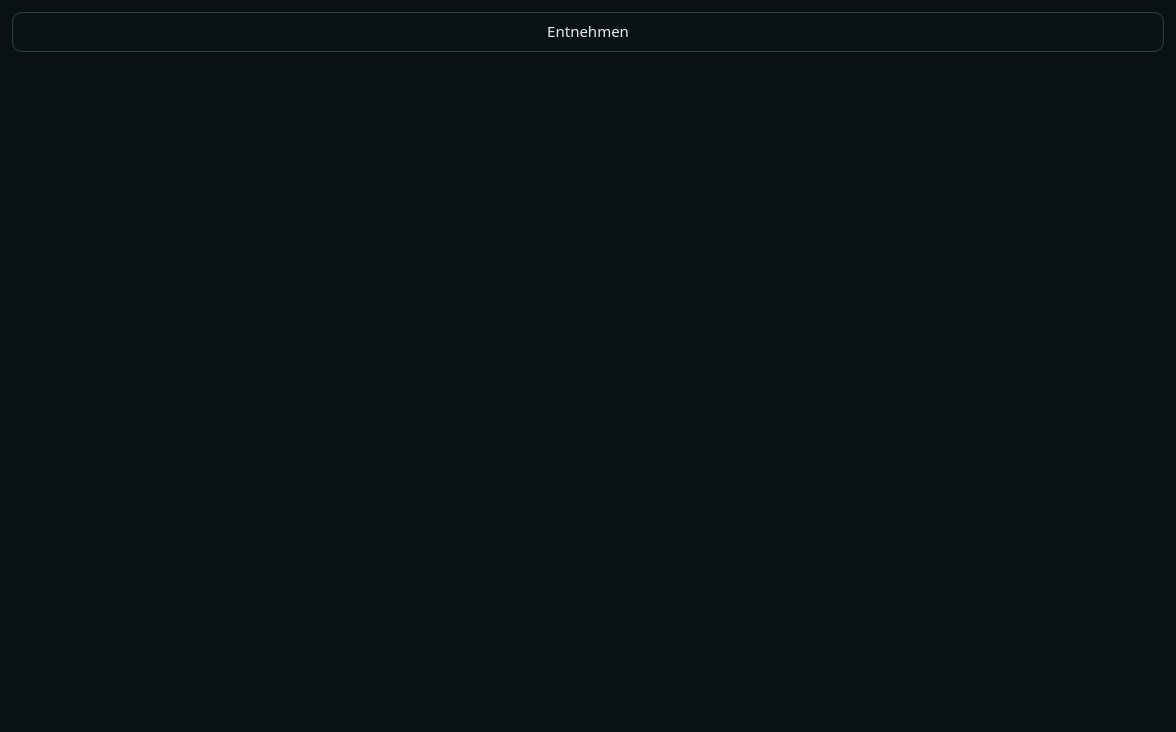
Test: Toast › zeigt eine Meldung mit Aktion und schließt sich danach
Click the button "Entnehmen" at (588, 32), box [12,12,1164,52]
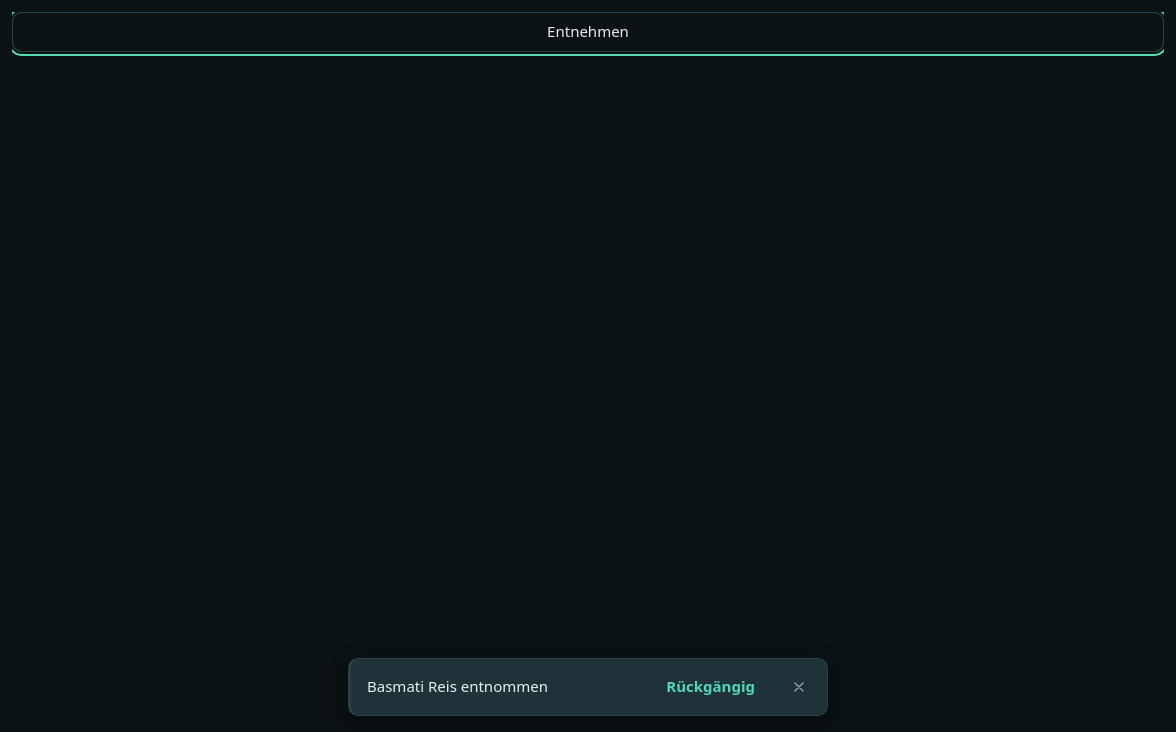
Check: the message shows "Basmati Reis entnommen", box [367,676,548,696]
Click the button "Rückgängig" at (711, 687), box [654,667,767,707]
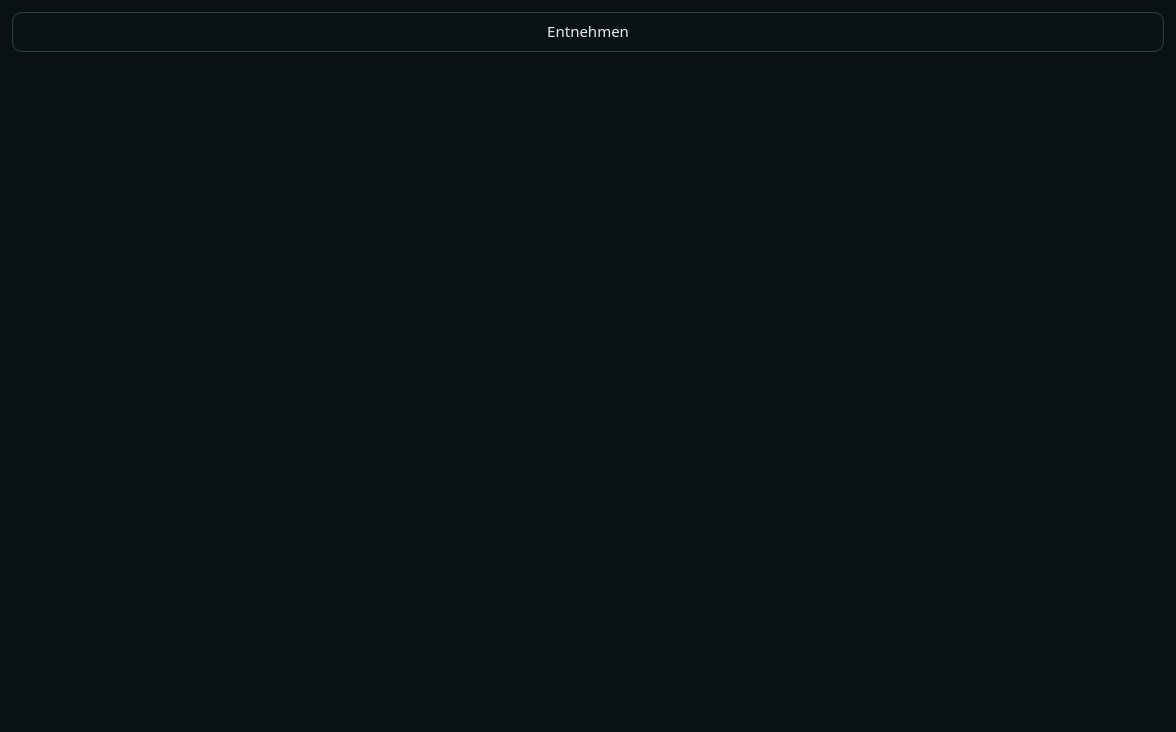
Check: the text "Basmati Reis entnommen" is gone
